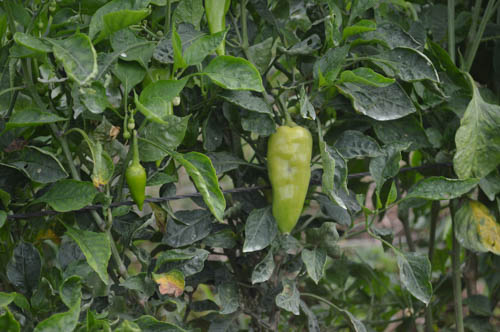ChiliPepper: (262, 127, 313, 231), (128, 168, 149, 207)
